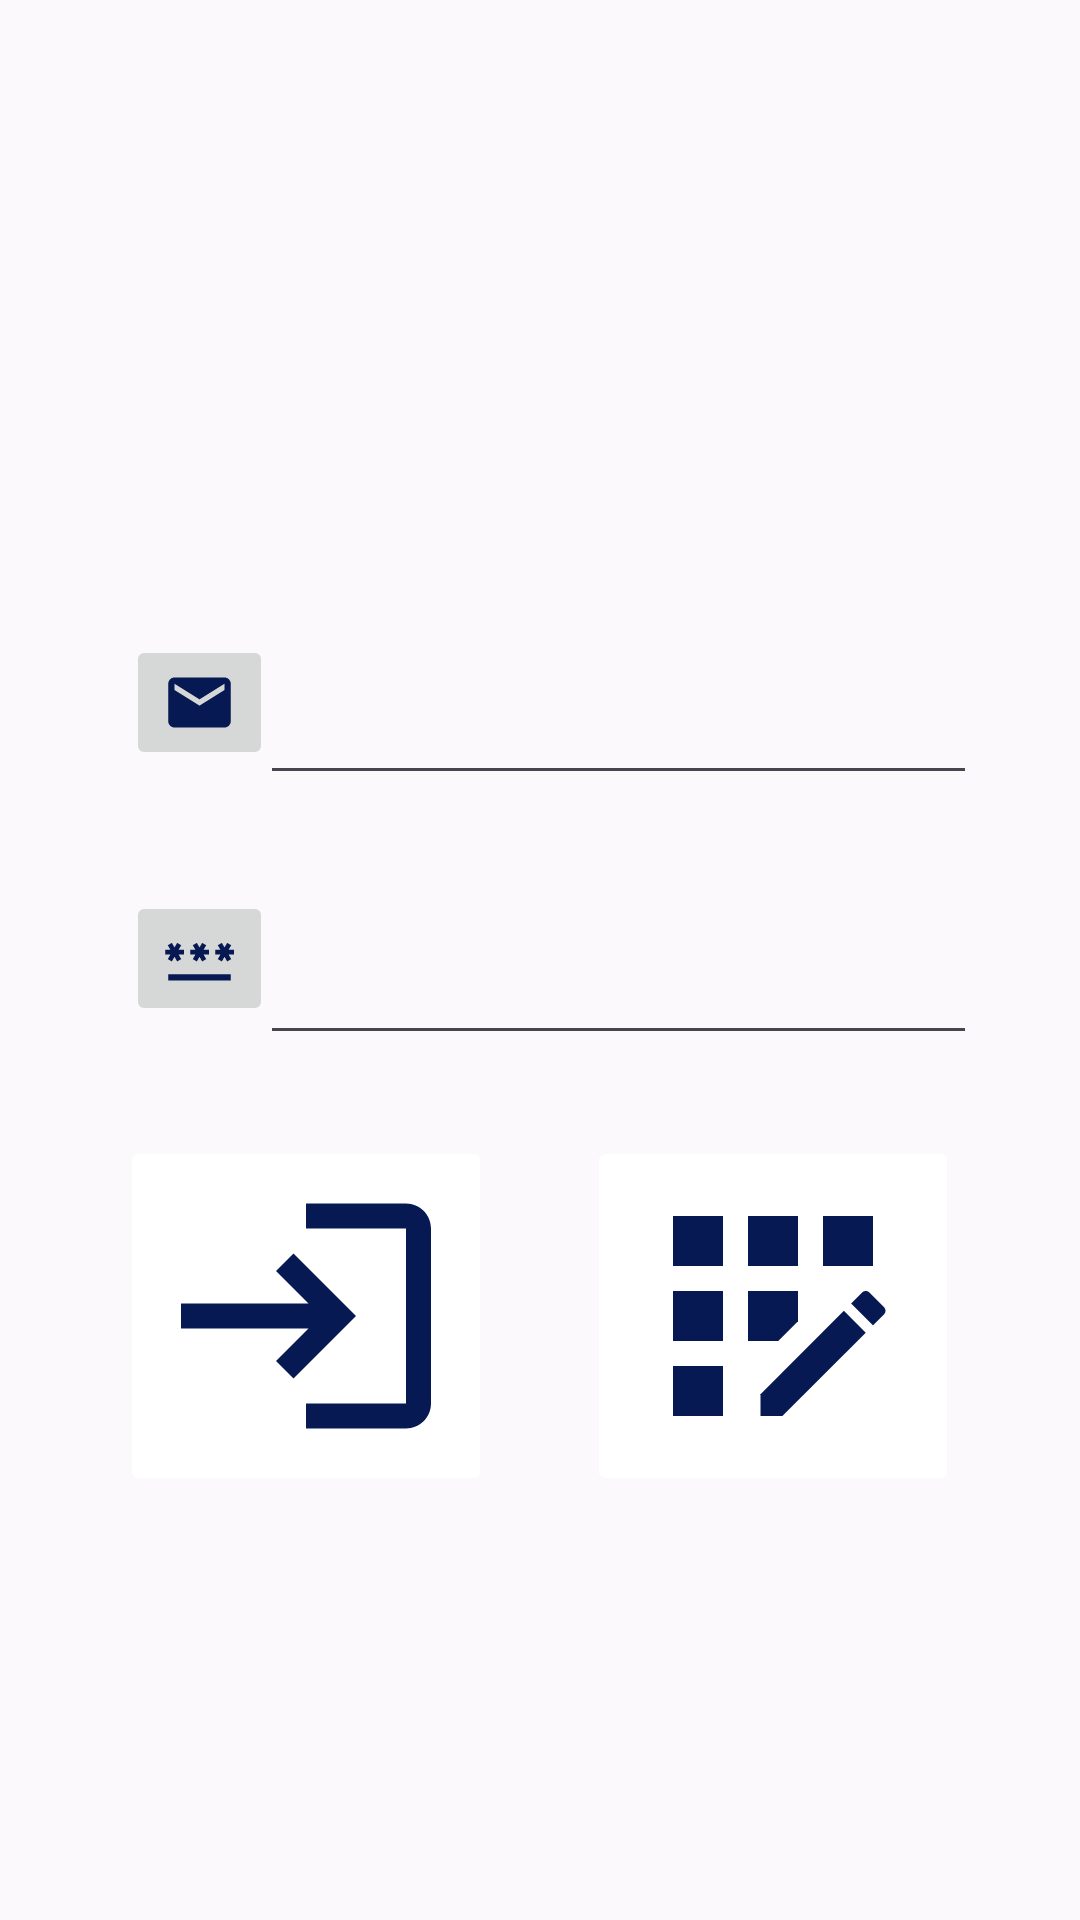

Point at icon controls on the screen. Image size 1080x1920, points as [x,y].
email: [199,702]
login: [306,1316]
password: [199,958]
registration: [779,1316]
